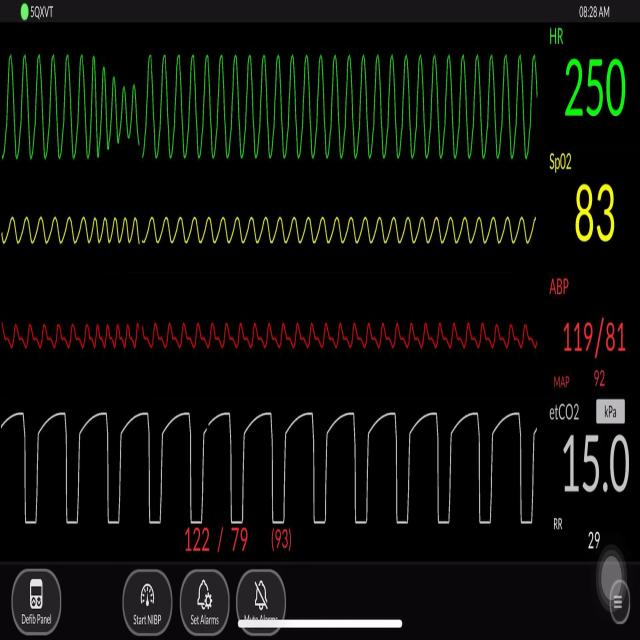danger: (142, 47, 542, 167)
